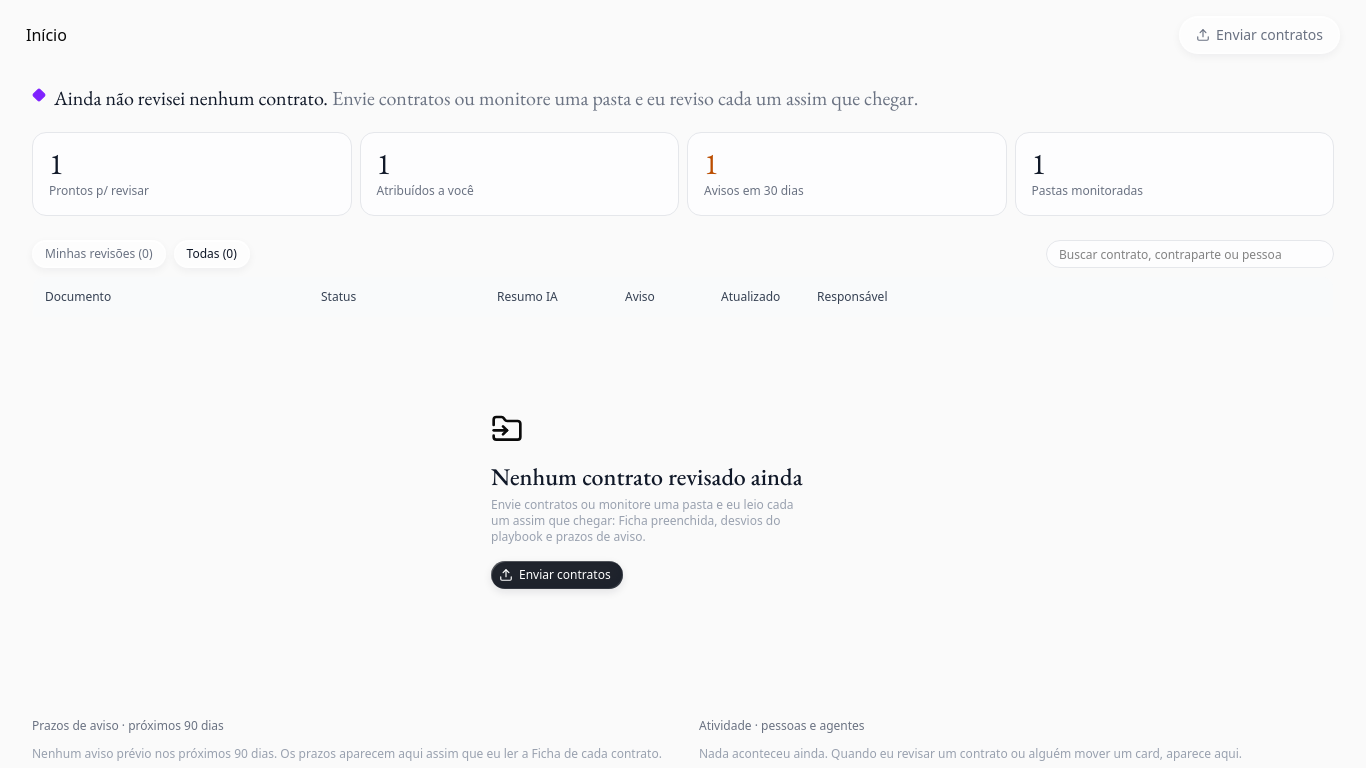
it: HomeView › teaches the first step when nothing was reviewed
Expected: the text "Ainda não revisei nenhum contrato." is shown, [54,85,328,111]
Expected: the text "Nenhum contrato revisado ainda" is shown, [491,461,802,493]
Click the button named "Enviar contratos". click: (557, 575)
box: [491,561,623,589]
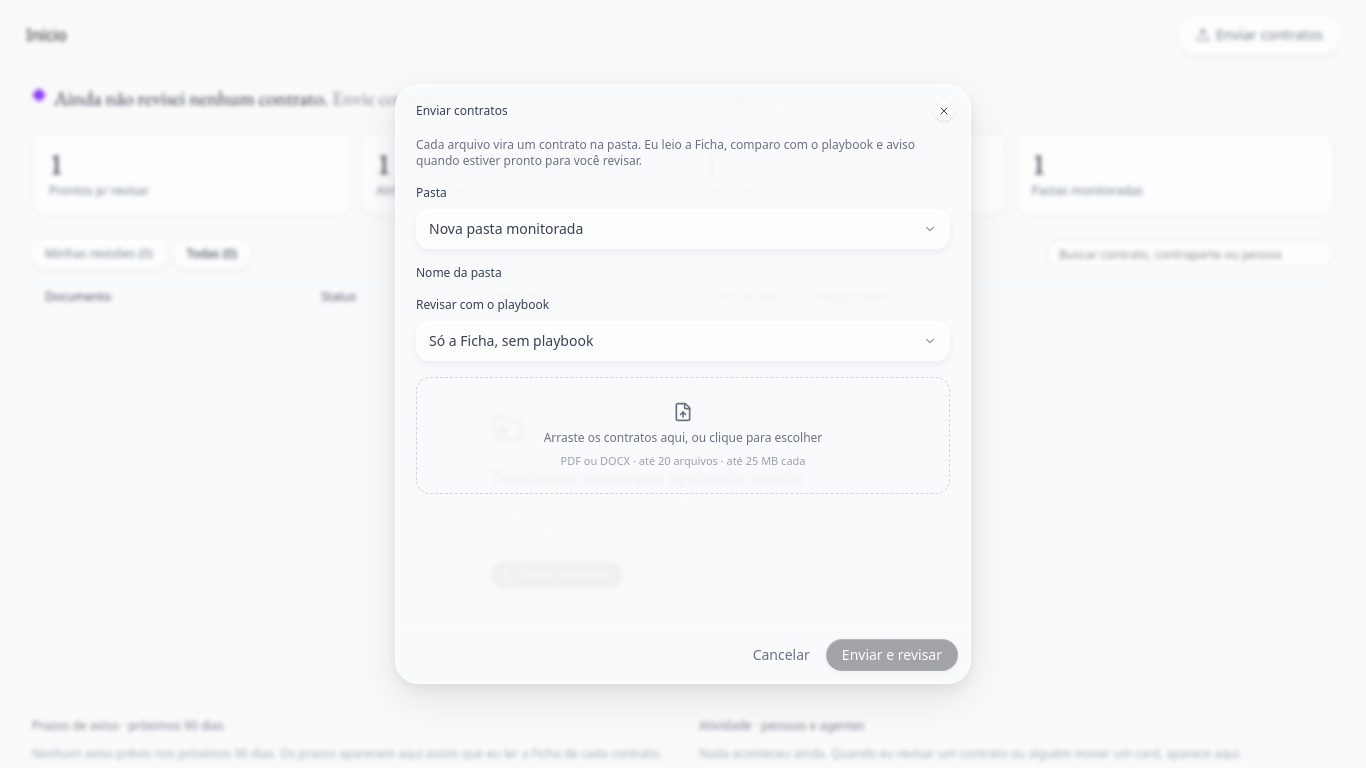
Expected: the dialog "Enviar contratos" is shown, [395,84,971,684]
